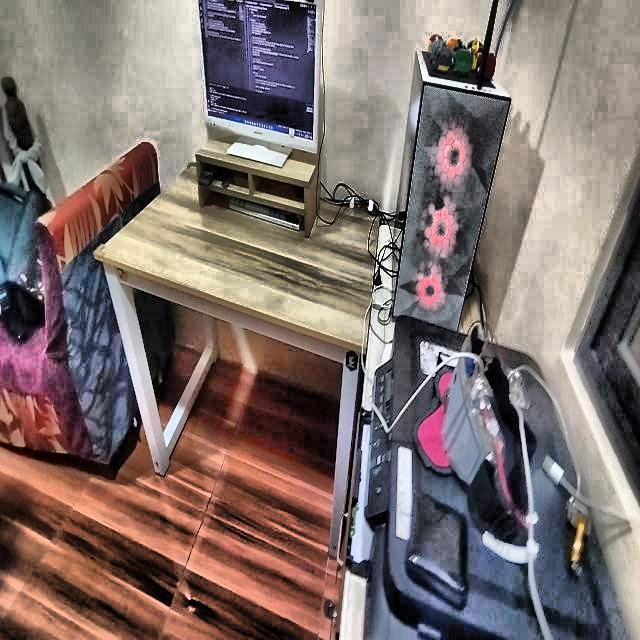mesa: (106, 153, 376, 553)
